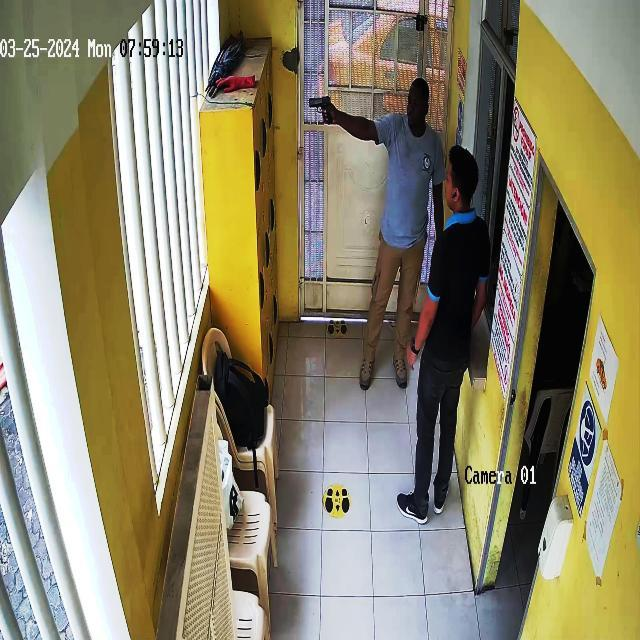Gun: (300, 85, 346, 129)
